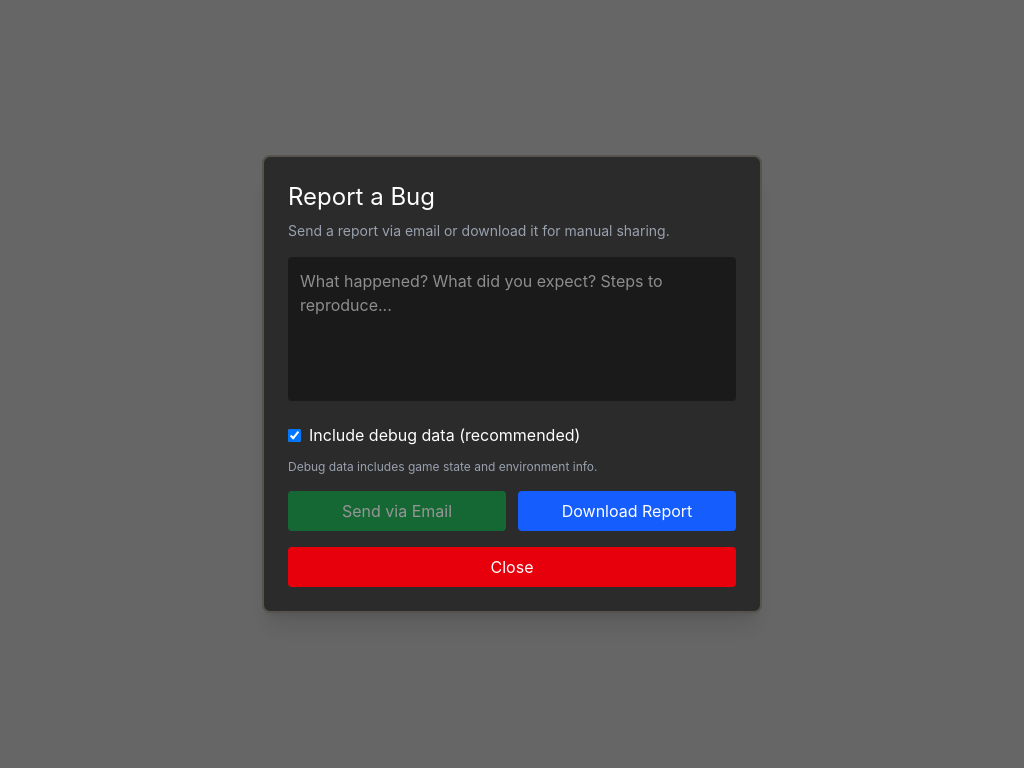
Test: BugReportModal › enables email button when description is filled
Type "Bug here" into the text box with placeholder "What happened? What did you expect? Steps to reproduce..." at (512, 329), box [288, 257, 736, 401]
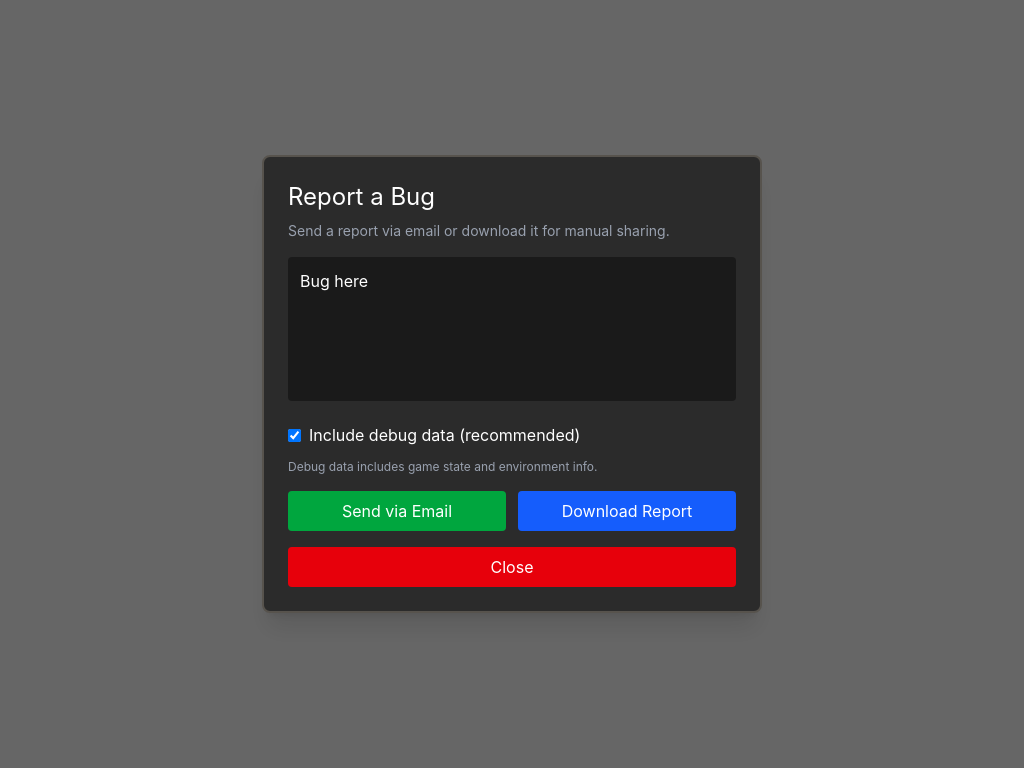
Check: the button "Send via Email" is enabled, box [288, 491, 506, 531]
